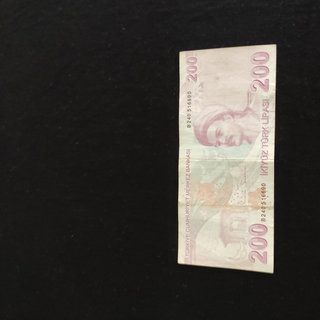200TLBack: (177, 43, 277, 274)
